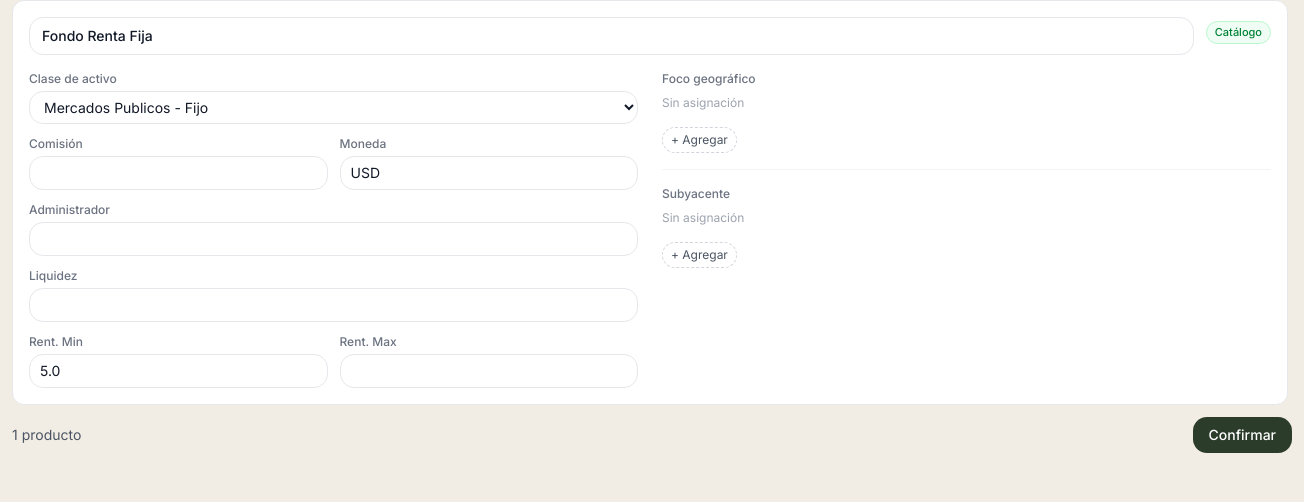
ReviewTable confirm submission › keeps the review table populated and editable when confirm fails
Click the button "Confirmar" at (1242, 435), box [1193,417,1292,453]
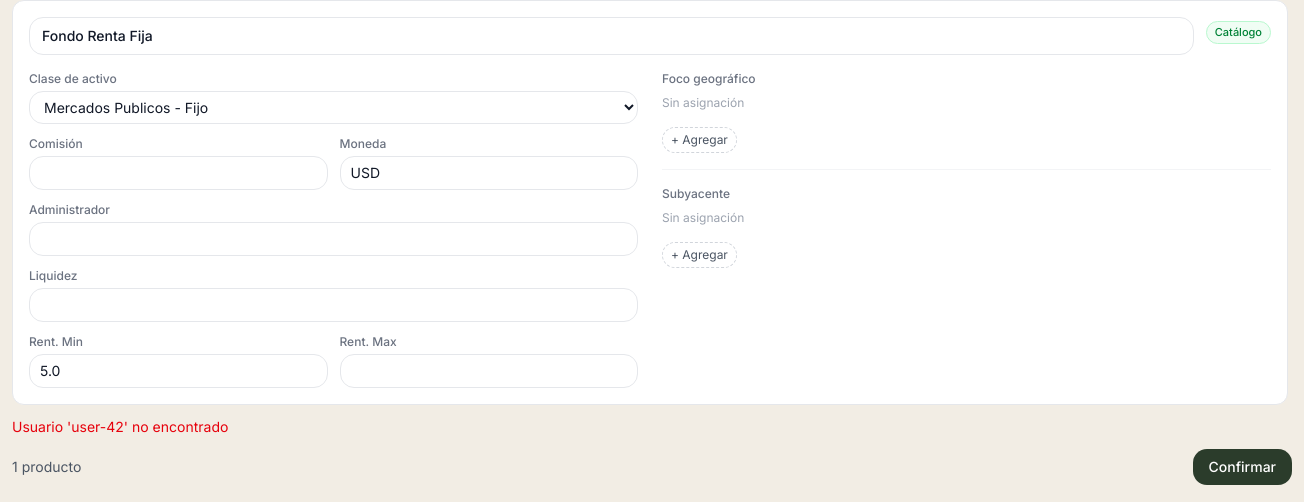
Expected: the field showing "Fondo Renta Fija" next to "Catálogo" is shown, [29,17,1194,55]
Result: the text "Usuario 'user-42' no encontrado" is shown at [12,418,228,435]
